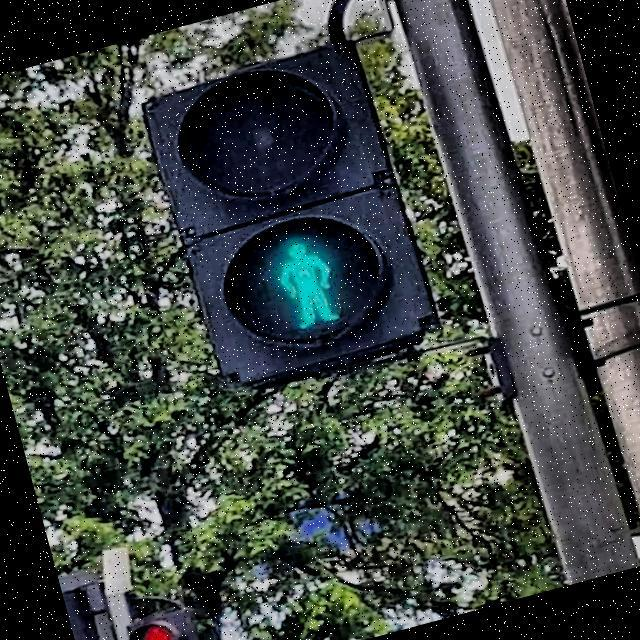green_light: (264, 231, 350, 339)
